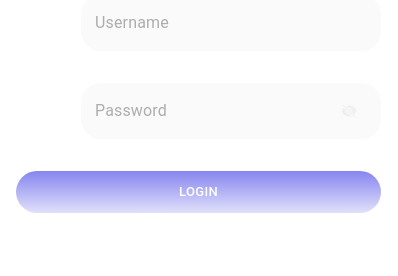
LoginPopup › displays an error message for empty username and password
Click the button "Login".
click(199, 192)  # box [16,171,381,213]
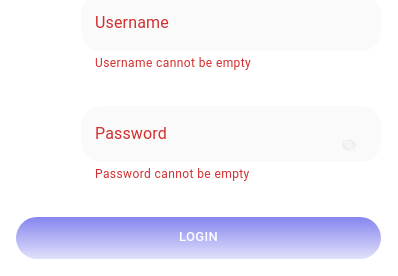
Expected: the text "Username cannot be empty" is shown, [95,56,251,70]
Expected: the text "Password cannot be empty" is shown, [95,167,250,181]
